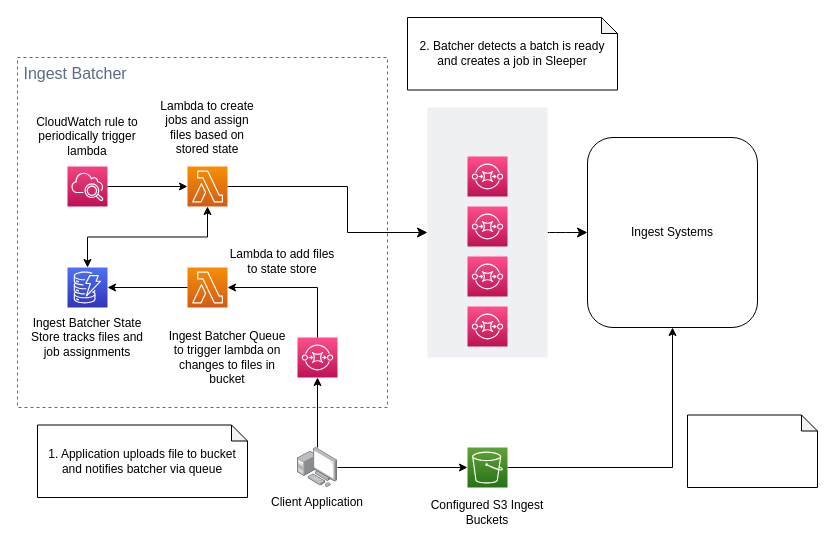
This 835x545 diagram has some shape labels left out. Each missing label, with the box of its shape:
3. Sleeper retrieves files for job from S3: (686, 414, 818, 488)
Ingest / Bulk Import Queues: (427, 107, 547, 357)
